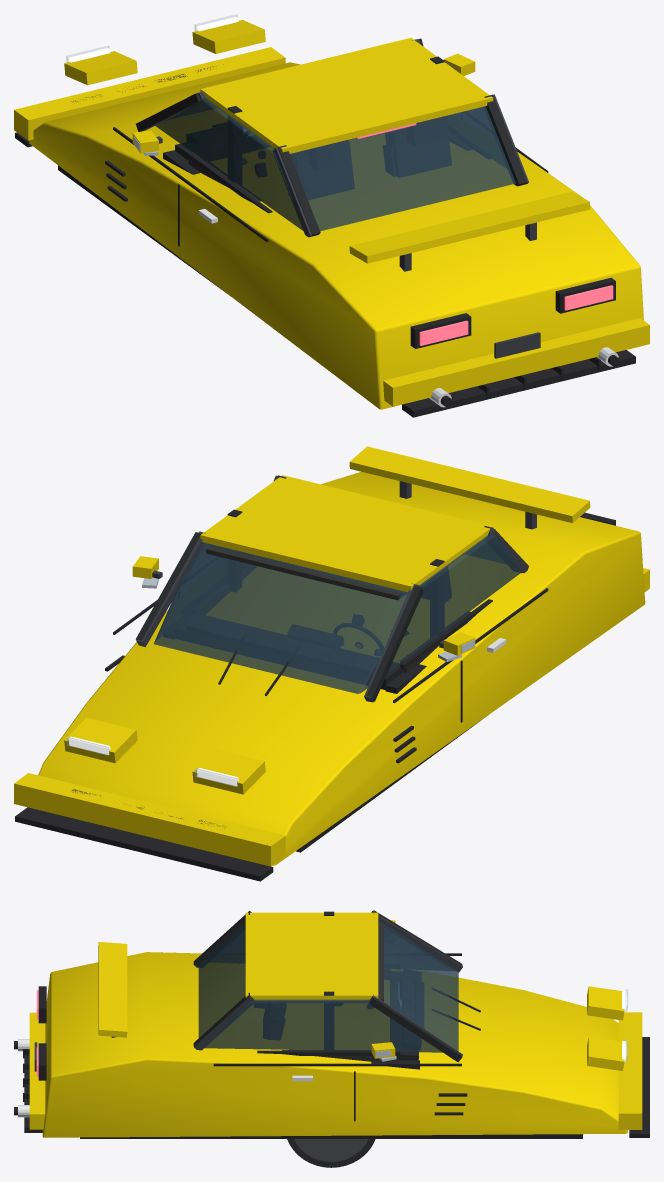
The model's file is shogun.glb.
The picture shows the model from 3 angles, top to bottom: view 1: azimuth 30°, elevation 25°; view 2: azimuth 150°, elevation 25°; view 3: azimuth 270°, elevation 25°; orthographic projection. The views are drawn at different scales.
Visible parts, largest first — view 1: body_shell, cabin_glass, cabin_roof, rear_bumper, front_bumper, spoiler_wing, rear_diffuser, seat_pass_back, seat_driver_back, head_housing_R, head_housing_L, pillar_c_R (+14 smaller); view 2: body_shell, cabin_glass, cabin_roof, front_bumper, spoiler_wing, front_splitter, dashboard, dash_cowl, headliner, head_housing_L, head_housing_R, pillar_a_L (+6 smaller); view 3: body_shell, cabin_glass, cabin_roof, spoiler_wing, front_bumper, undertray, rear_bumper, wheel_fl_sidewall, head_housing_L, head_housing_R, pillar_a_R, beltline_R (+11 smaller).
Boxes of the visible parts, x1,y1,x2,y2 form: body_shell: [29, 62, 643, 409]; cabin_glass: [155, 97, 515, 231]; cabin_roof: [200, 38, 493, 153]; rear_bumper: [383, 318, 649, 406]; front_bumper: [14, 47, 285, 140]; spoiler_wing: [349, 191, 590, 263]; rear_diffuser: [402, 350, 635, 417]; seat_pass_back: [385, 129, 451, 177]; seat_driver_back: [290, 150, 354, 199]; head_housing_R: [192, 20, 265, 53]; head_housing_L: [64, 51, 137, 85]; pillar_c_R: [484, 94, 527, 186]; body_shell: [38, 471, 645, 865]; cabin_glass: [154, 535, 522, 693]; cabin_roof: [200, 475, 493, 592]; front_bumper: [14, 773, 285, 866]; spoiler_wing: [349, 446, 590, 523]; front_splitter: [15, 807, 273, 881]; dashboard: [175, 614, 403, 689]; dash_cowl: [187, 614, 379, 675]; headliner: [206, 545, 406, 600]; head_housing_L: [192, 749, 265, 794]; head_housing_R: [64, 717, 137, 763]; pillar_a_L: [366, 585, 423, 701]; body_shell: [42, 952, 627, 1137]; cabin_glass: [198, 921, 458, 1052]; cabin_roof: [245, 912, 378, 1000]; spoiler_wing: [98, 942, 127, 1037]; front_bumper: [618, 1012, 642, 1129]; undertray: [80, 1134, 582, 1138]; rear_bumper: [29, 1012, 45, 1129]; wheel_fl_sidewall: [294, 1139, 368, 1161]; head_housing_L: [587, 986, 624, 1020]; head_housing_R: [587, 1037, 624, 1070]; pillar_a_R: [370, 997, 461, 1061]; beltline_R: [213, 1063, 461, 1066].
Size of the model in its own units: 2.41 by 1.76 by 4.89.
